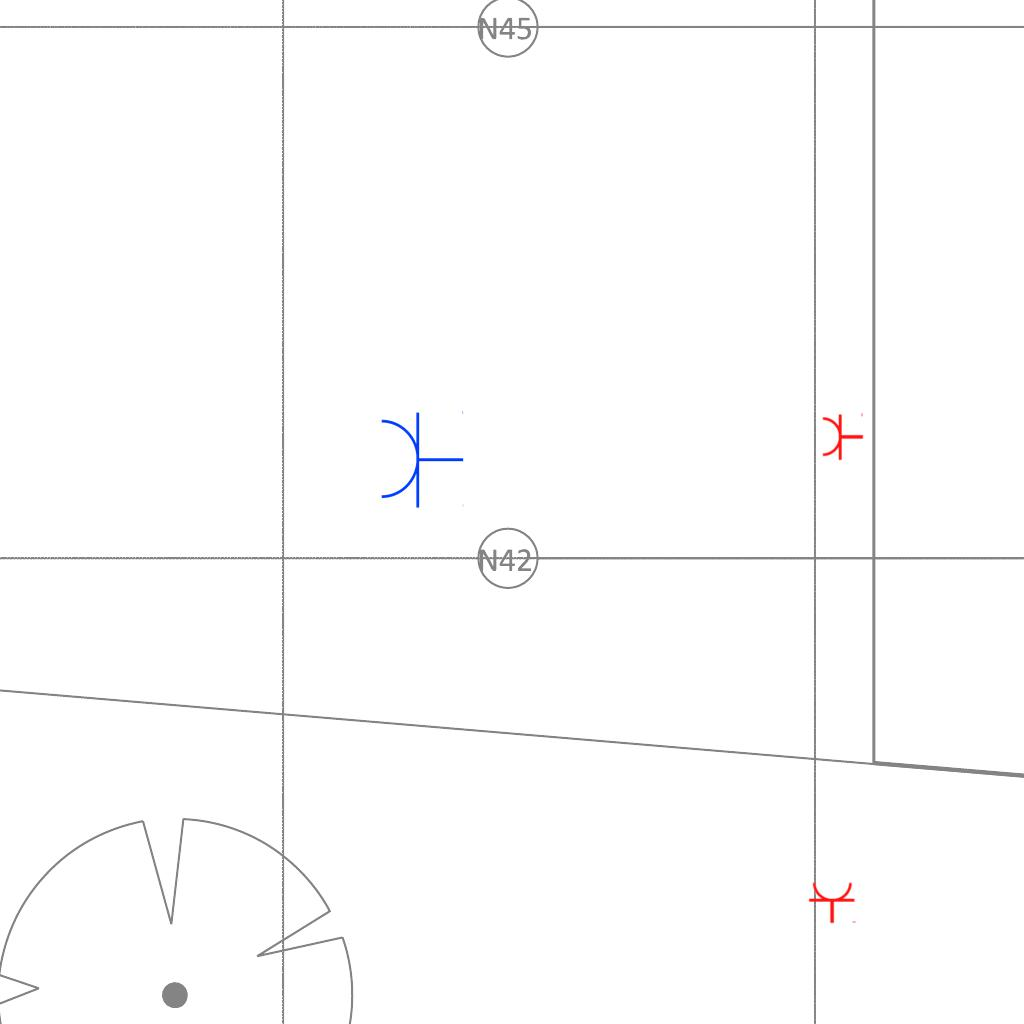Schukosteckdose_einfach: (377, 409, 464, 509), (808, 881, 858, 924), (821, 411, 864, 461)
